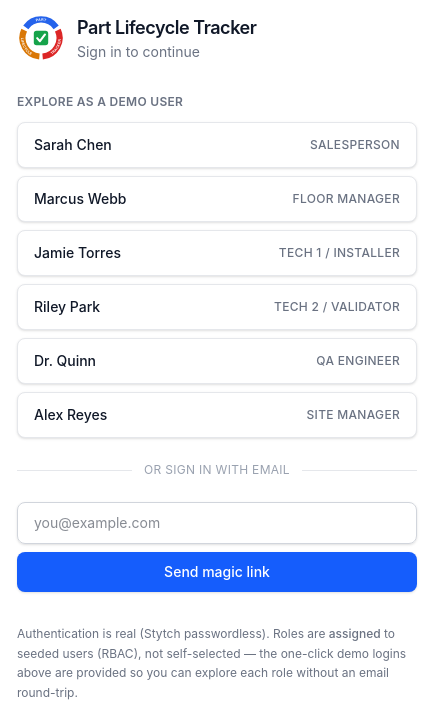
Login › sends a magic link and confirms the email was sent
This screenshot has width=435, height=717.
Type "someone@example.com" into the field named "Email address". click: (217, 523)
box: x1=17 y1=502 x2=417 y2=544
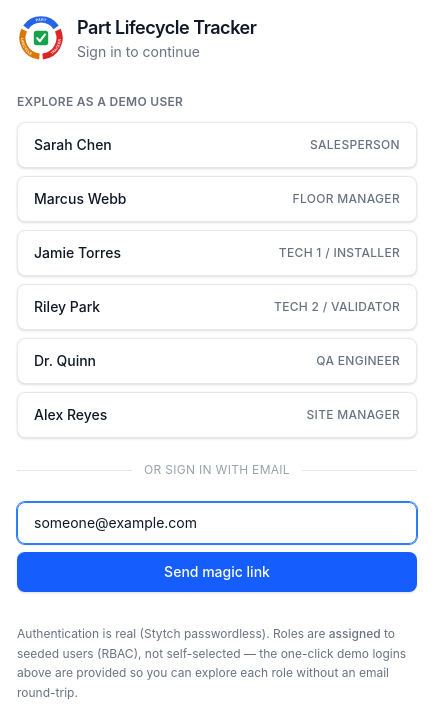
Click the button "Send magic link". click: (217, 572)
box: x1=17 y1=552 x2=417 y2=592
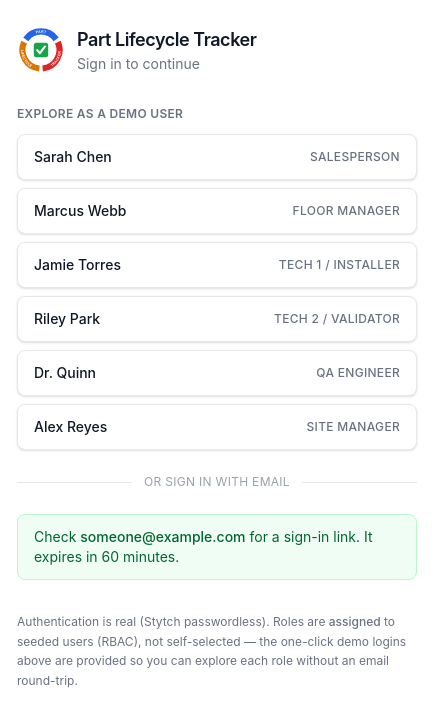
expect the message reads "Check someone@example.com for a sign-in link. It expires in 60 minutes.": met, box x1=17 y1=514 x2=417 y2=580
